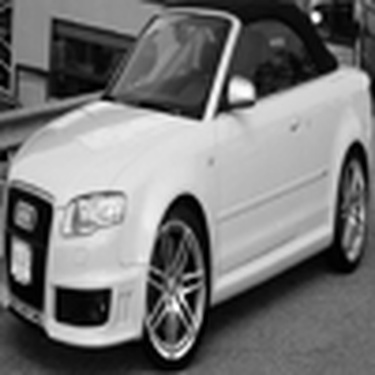car: (18, 11, 363, 327)
